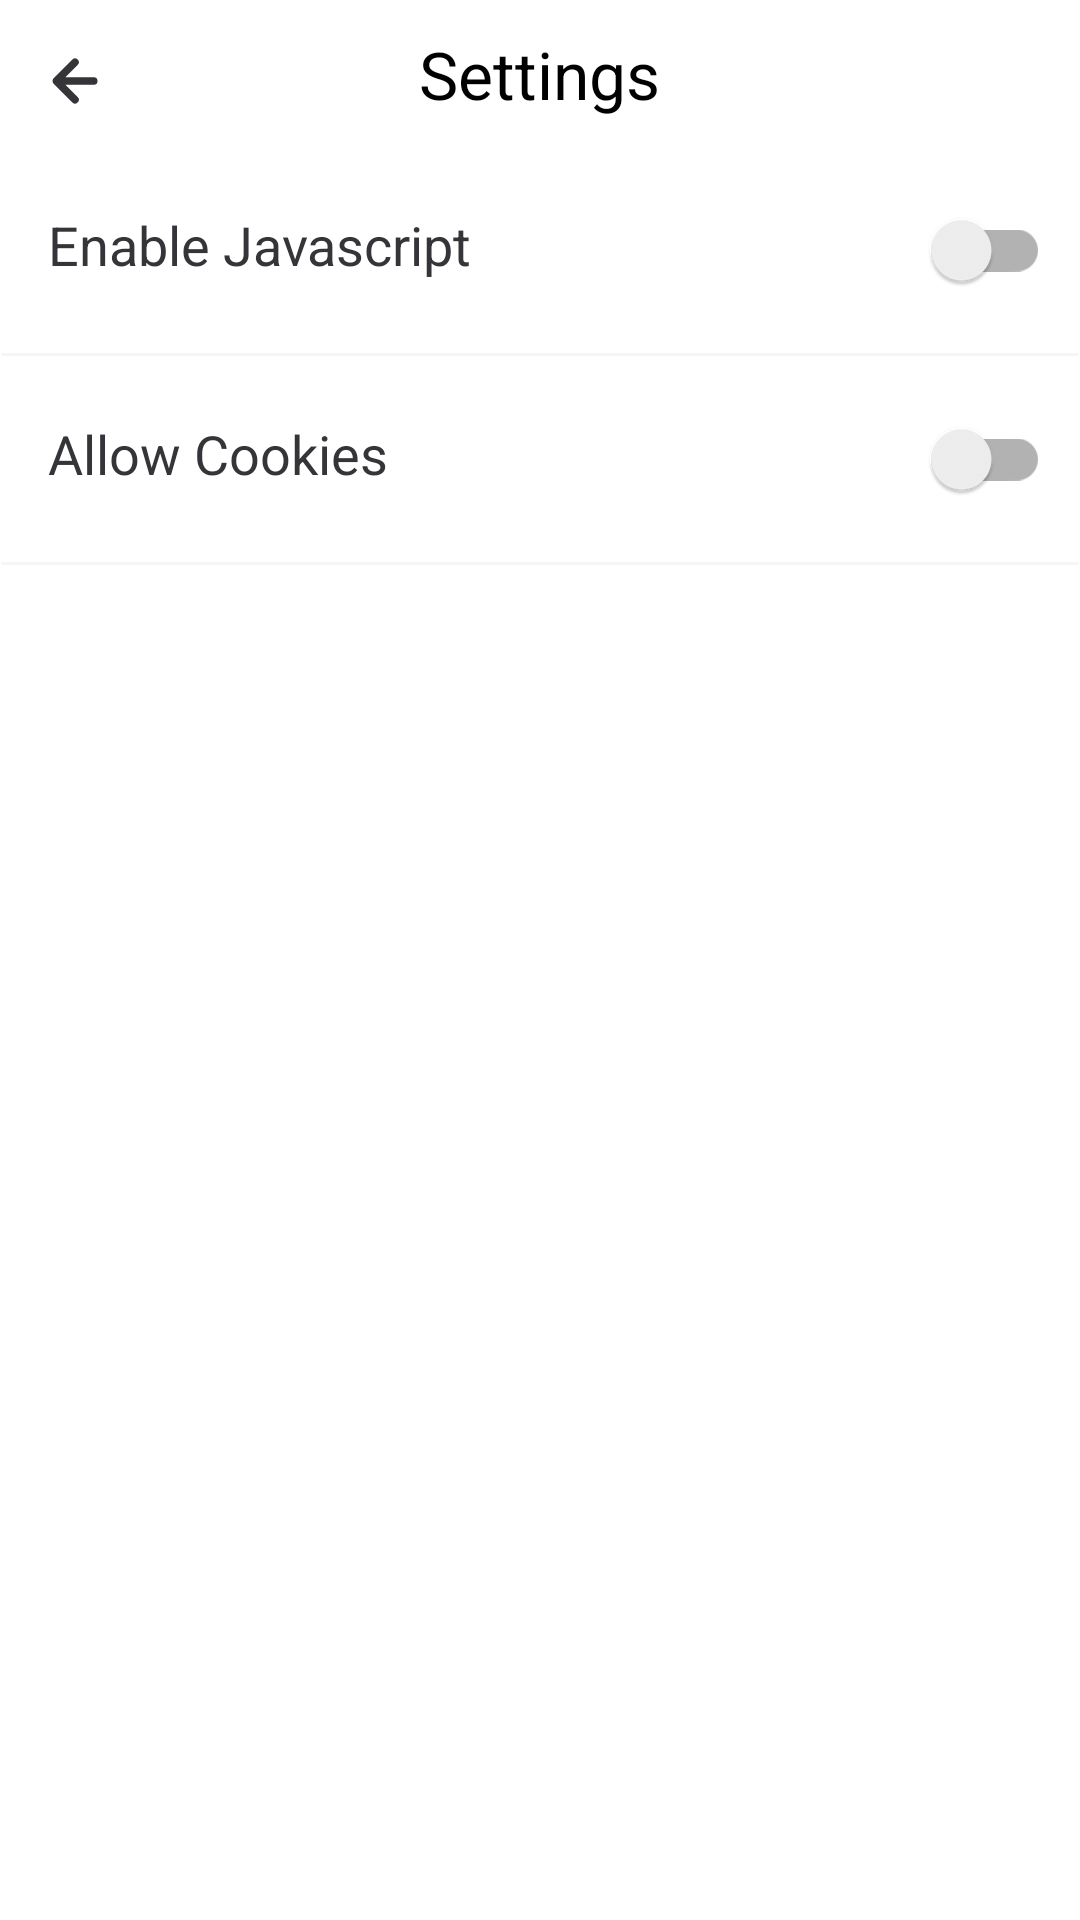

Point at icon controls on the screen. Image size 1080x1920, points as (x,y).
arrow left set: (75,81)
